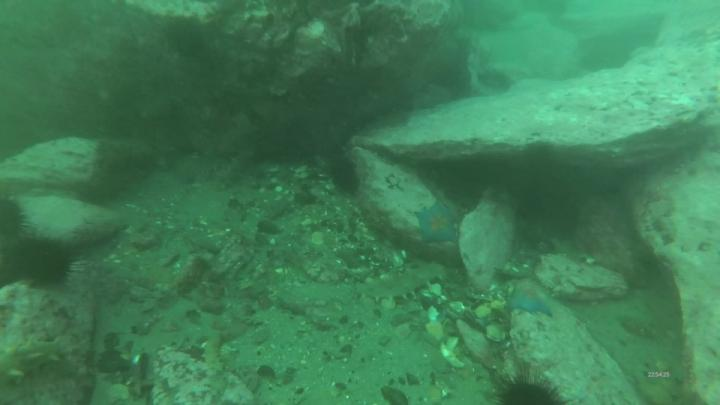echinus: (14, 240, 75, 288), (502, 382, 561, 405), (330, 156, 356, 195), (1, 200, 24, 235)
holothurian: (357, 263, 443, 301), (3, 339, 73, 383), (202, 335, 228, 375)
starfish: (418, 202, 460, 243), (510, 282, 554, 317)
